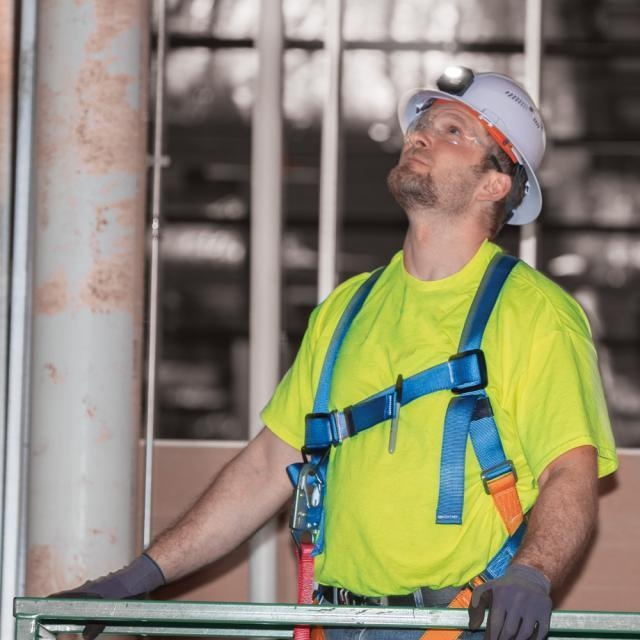Arnes_seguridad: (281, 241, 540, 602)
